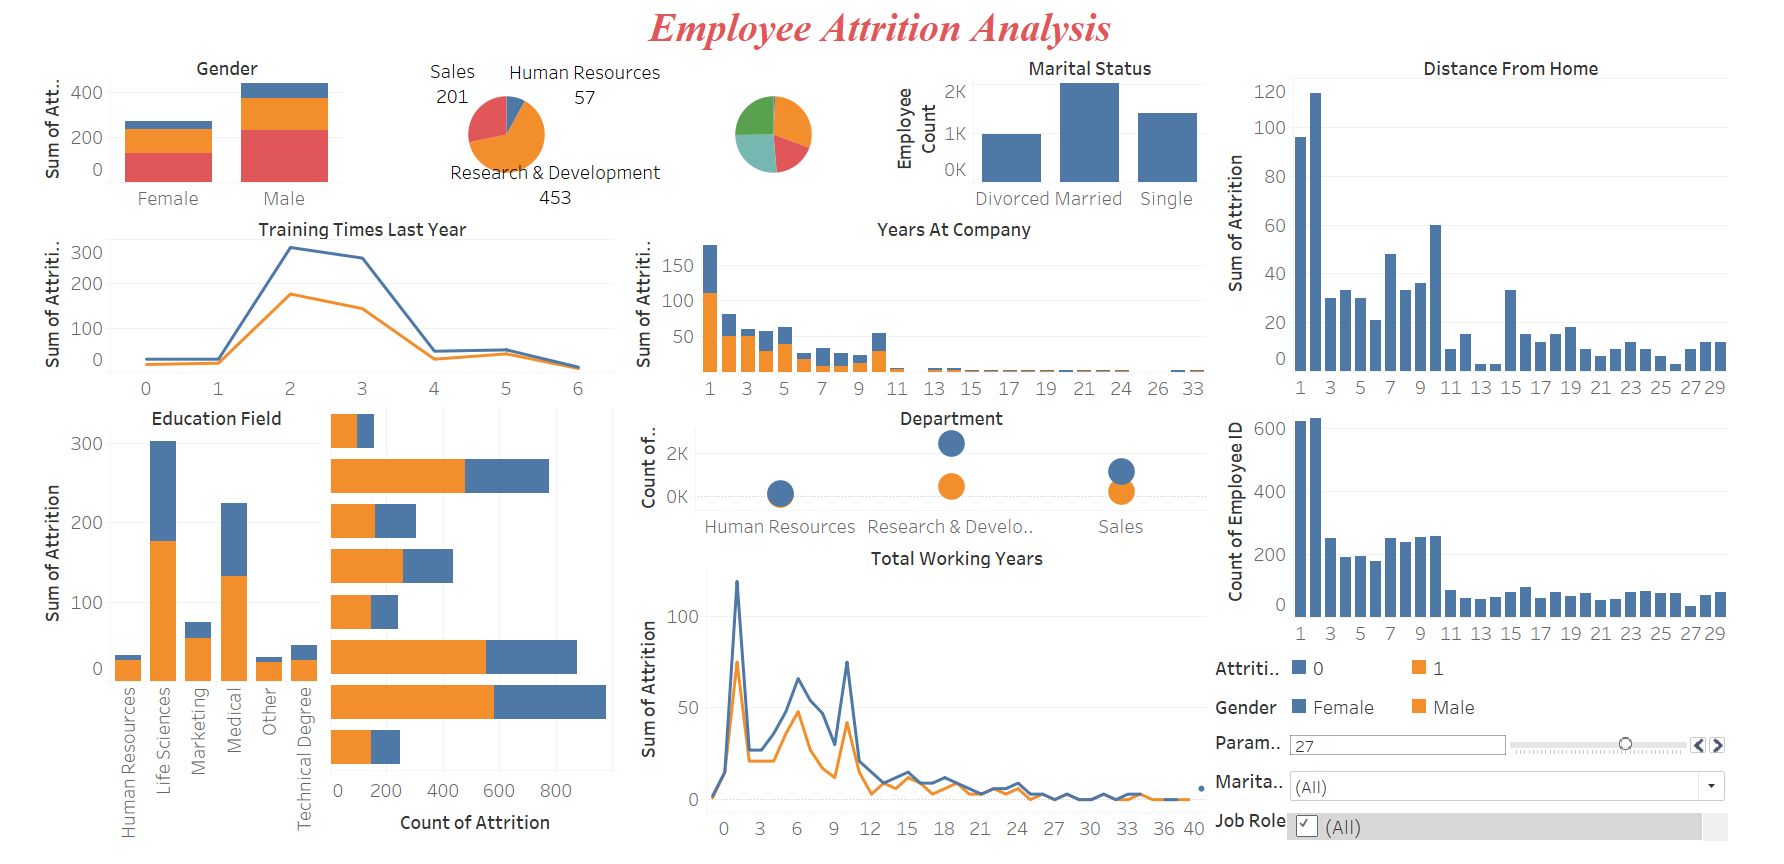

Layout of this report page (visuals, bound fields, positions):
{"tool":"tableau","page":{"name":"Dashboard 1","canvas":[1000,1000],"units":"permille","ordinal":0},"visuals":[{"type":"title","box":[5,9.9,990,65.8]},{"type":"worksheet","title":"Sheet 2","mark":"Automatic","rows":["Attrition"],"cols":["Gender"],"box":[5,75.7,185.6,185.7]},{"type":"worksheet","title":"Sheet 1","mark":"Pie","box":[190.5,75.7,185.6,185.7]},{"type":"worksheet","title":"Sheet 10","mark":"Pie","box":[376.1,75.7,123.7,185.7]},{"type":"worksheet","title":"Sheet 4","mark":"Automatic","rows":["EmployeeCount"],"cols":["MaritalStatus"],"box":[499.8,75.7,192.2,185.7]},{"type":"worksheet","title":"Sheet 7","mark":"Automatic","rows":["Attrition"],"cols":["DistanceFromHome"],"box":[692,75.7,303,405.1]},{"type":"worksheet","title":"Sheet 11","mark":"Line","rows":["Attrition"],"cols":["TrainingTimesLastYear"],"box":[5,261.4,343.5,219.4]},{"type":"worksheet","title":"Sheet 8","mark":"Automatic","rows":["Attrition"],"cols":["YearsAtCompany"],"box":[348.5,261.4,343.6,219.4]},{"type":"worksheet","title":"Sheet 6","mark":"Automatic","rows":["Attrition"],"cols":["EducationField"],"box":[5,480.8,173,509.3]},{"type":"worksheet","title":"Sheet 3","mark":"Automatic","rows":["JobRole"],"cols":["Attrition"],"box":[178,480.8,173,509.3]},{"type":"worksheet","title":"Sheet 5","mark":"Circle","rows":["EmployeeID"],"cols":["Department"],"box":[351,480.8,341,160.9]},{"type":"worksheet","title":"Sheet 7 (2)","mark":"Automatic","rows":["EmployeeID"],"cols":["DistanceFromHome"],"box":[692,480.8,303,284.7]},{"type":"worksheet","title":"Sheet 11 (2)","mark":"Line","rows":["Attrition"],"cols":["TotalWorkingYears"],"box":[351,641.7,341,348.4]},{"type":"legend","title":"Sheet 5","param":"[federated.0geo5fa1rztcl61c4sjst1g88gvq].[none:Attrition (copy)_1389079064684023","box":[692,765.5,303,44.9]},{"type":"legend","title":"Sheet 6","param":"[federated.0geo5fa1rztcl61c4sjst1g88gvq].[none:Gender:nk]","box":[692,810.4,303,44.9]},{"type":"parameter","param":"[Parameters].[Parameter 1]","box":[692,855.3,303,44.9]},{"type":"filter","title":"Sheet 11 (2)","param":"[federated.0geo5fa1rztcl61c4sjst1g88gvq].[none:MaritalStatus:nk]","box":[692,900.2,303,44.9]},{"type":"filter","title":"Sheet 3","param":"[federated.0geo5fa1rztcl61c4sjst1g88gvq].[none:JobRole:nk]","box":[692,945.1,303,44.9]}]}

Visuals, with their boxes on the dashboard's canvas, which has no fixed pixel size, in thousandths of its width and height (x1, y1, x2, y2). These are canvas units, not pixel positions in the 1784x864 screenshot, which may show the page scaled, cropped or inside an application window:
title: 5:10:995:76
"Sheet 2" worksheet: 5:76:191:261
"Sheet 1" worksheet (Pie marks): 190:76:376:261
"Sheet 10" worksheet (Pie marks): 376:76:500:261
"Sheet 4" worksheet: 500:76:692:261
"Sheet 7" worksheet: 692:76:995:481
"Sheet 11" worksheet (Line marks): 5:261:348:481
"Sheet 8" worksheet: 348:261:692:481
"Sheet 6" worksheet: 5:481:178:990
"Sheet 3" worksheet: 178:481:351:990
"Sheet 5" worksheet (Circle marks): 351:481:692:642
"Sheet 7 (2)" worksheet: 692:481:995:766
"Sheet 11 (2)" worksheet (Line marks): 351:642:692:990
"Sheet 5" legend: 692:766:995:810
"Sheet 6" legend: 692:810:995:855
parameter: 692:855:995:900
"Sheet 11 (2)" filter: 692:900:995:945
"Sheet 3" filter: 692:945:995:990
